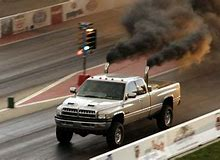smoke: (105, 1, 220, 63)
